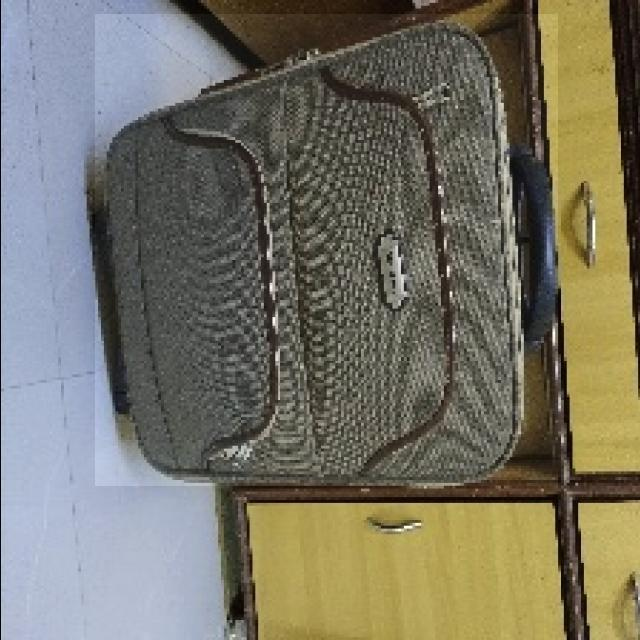Suitcase: (108, 14, 544, 492)
